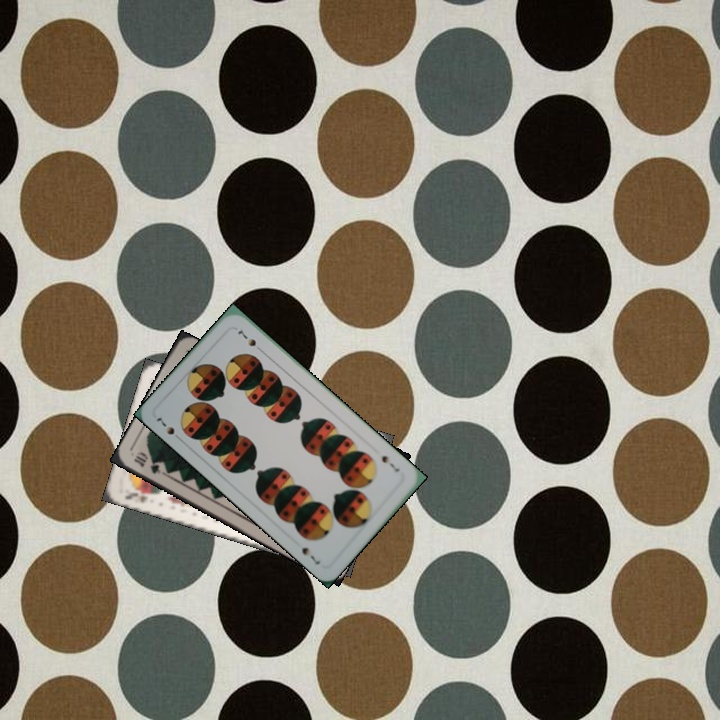G10: (130, 448, 163, 477)
S7: (152, 412, 185, 444), (378, 451, 402, 475)
SK: (121, 485, 157, 506)
